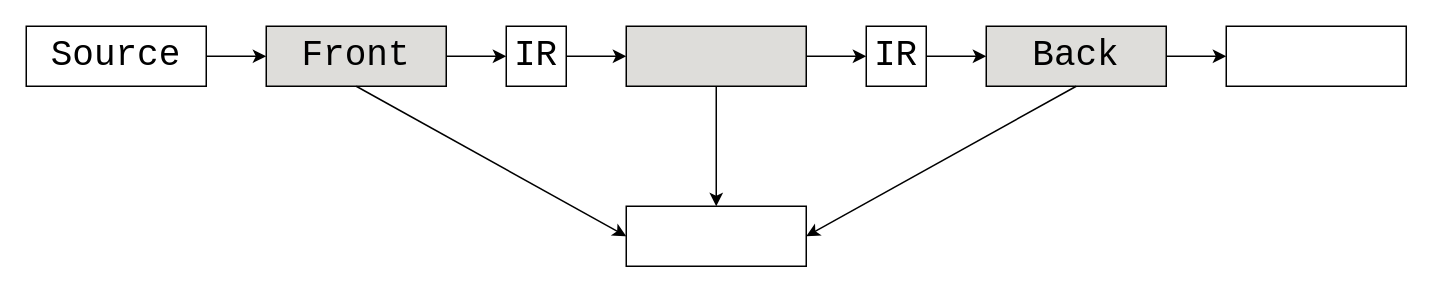
Image size: 1433x293. Some labels were removed from this diagram. Here are the shapes that lost their labels. From the top down, the centre of each, then its label:
At (715,55): "Middle".
At (1315,55): "Machine".
At (715,235): "Errors".
